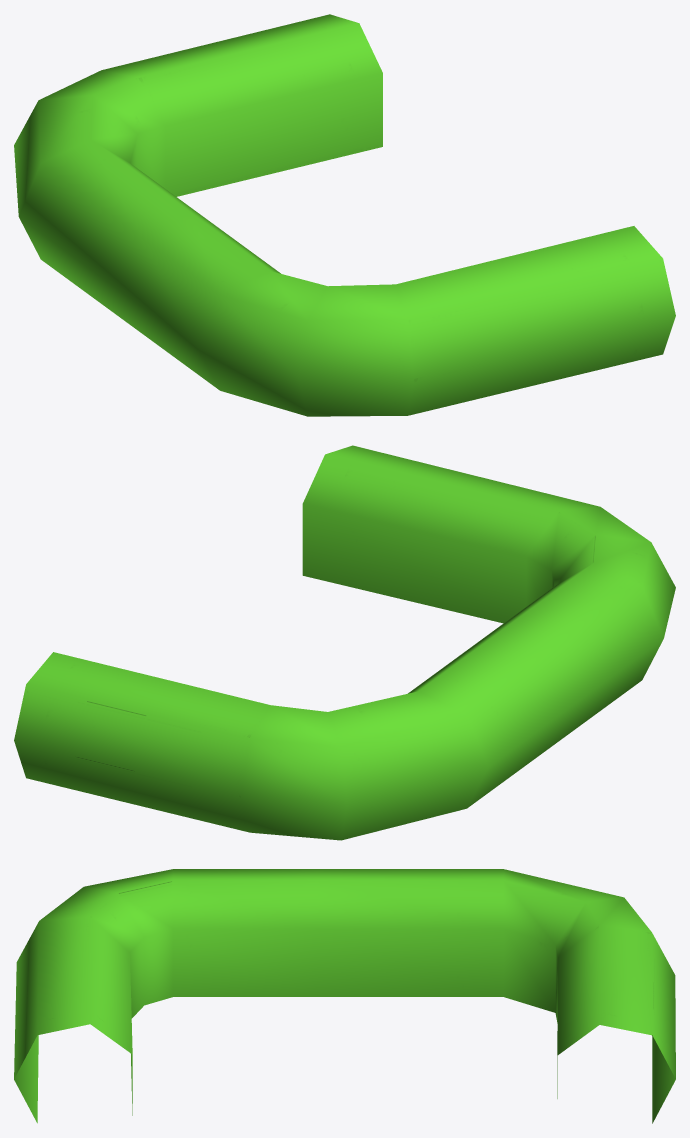
File: Norris_Maze_Green_Wire_C.fbx
3 views of the same model, one above another, from view 1: azimuth 30°, elevation 25°; view 2: azimuth 150°, elevation 25°; view 3: azimuth 270°, elevation 25° (orthographic). The views are drawn at different scales.
Visible parts, largest first — view 1: WireC6; view 2: WireC6; view 3: WireC6.
Boxes of the visible parts, <box> form: WireC6: <box>14,14,675,416</box>; WireC6: <box>14,445,675,840</box>; WireC6: <box>14,869,675,1123</box>.
Bounding box in the file's own units: 3.79 × 0.9939 × 6.
